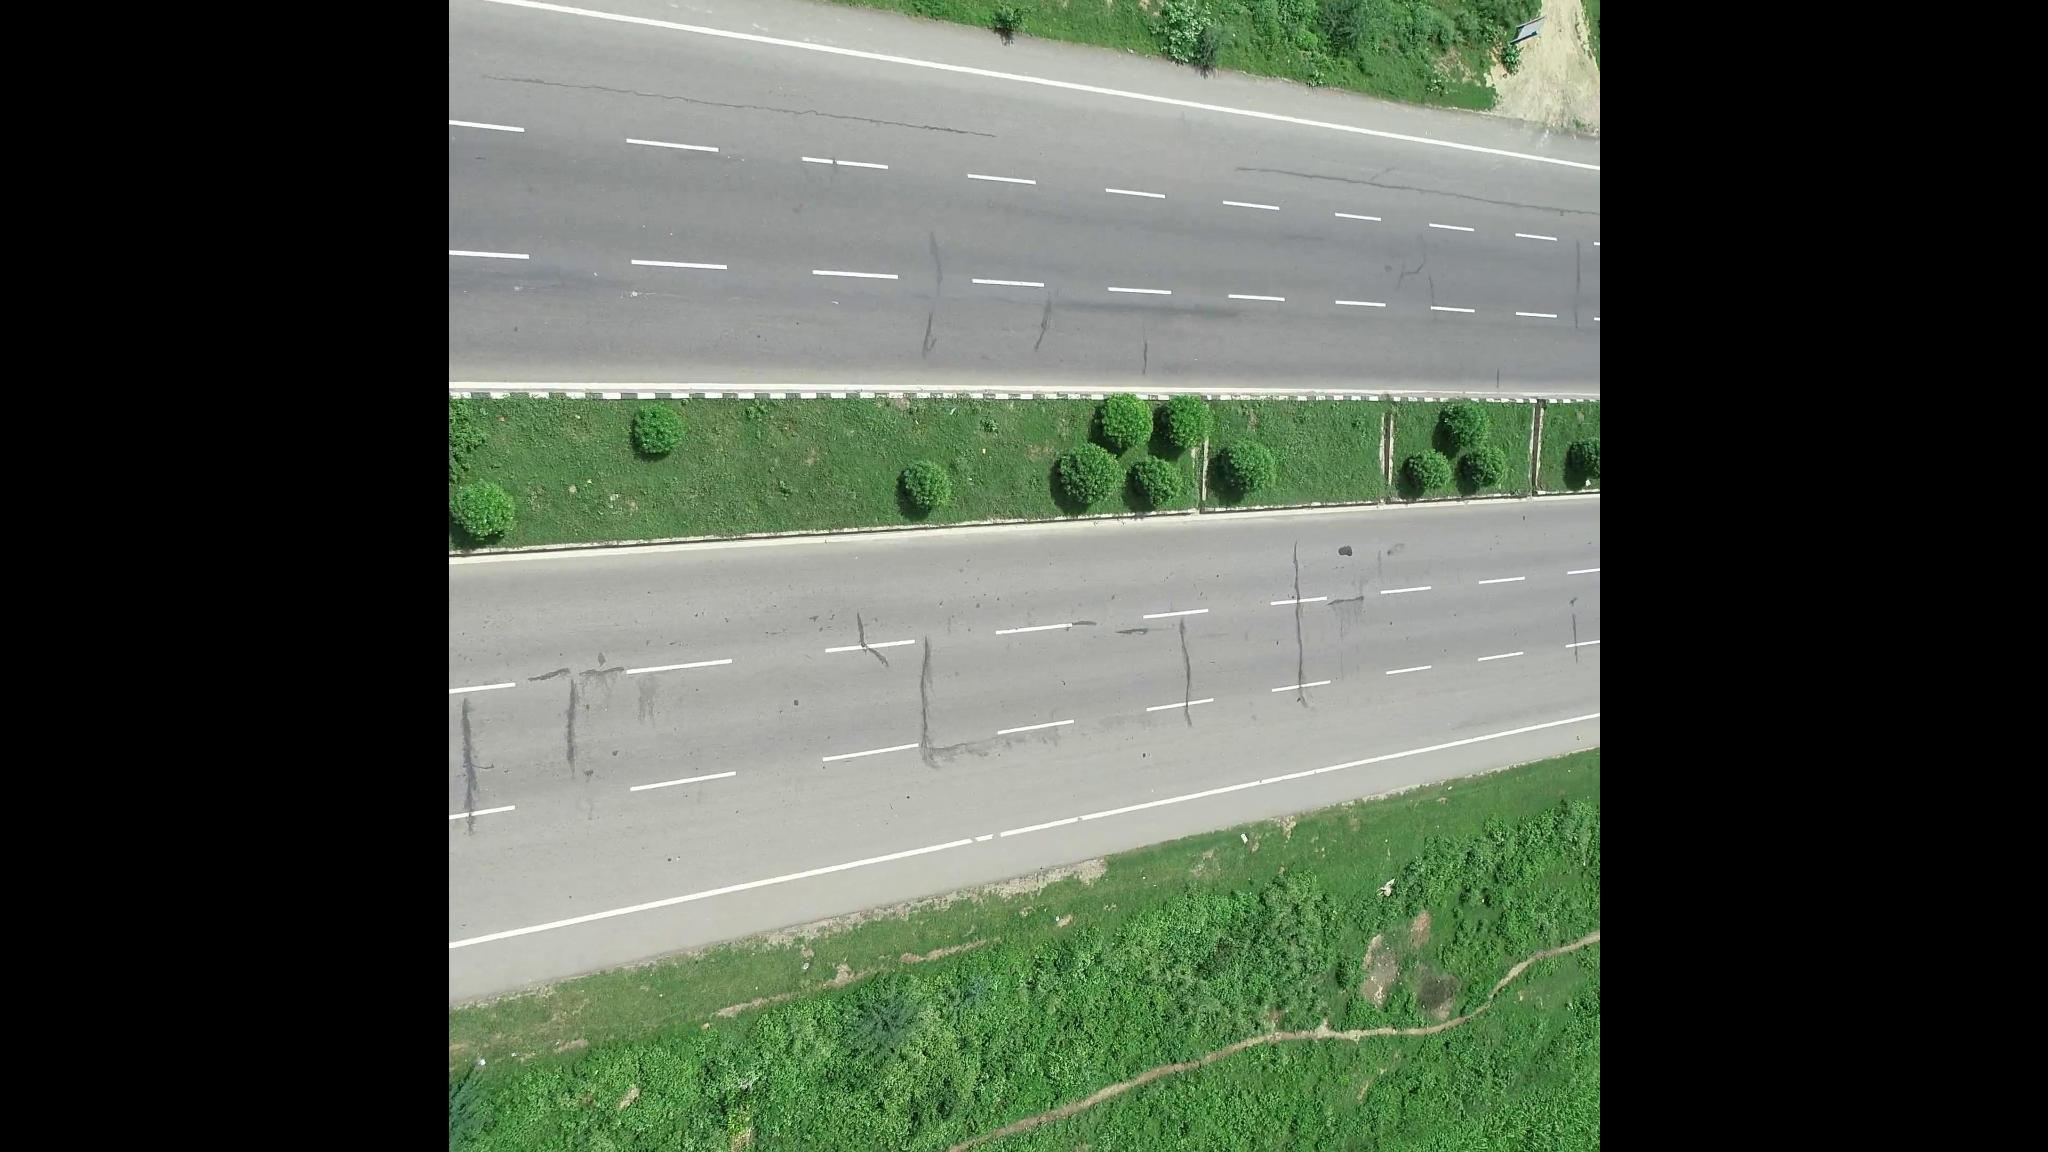Cracks: (519, 68, 1000, 155), (1242, 163, 1592, 224)
